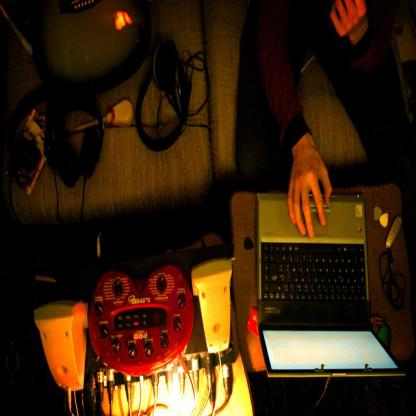board: (256, 189, 406, 378)
